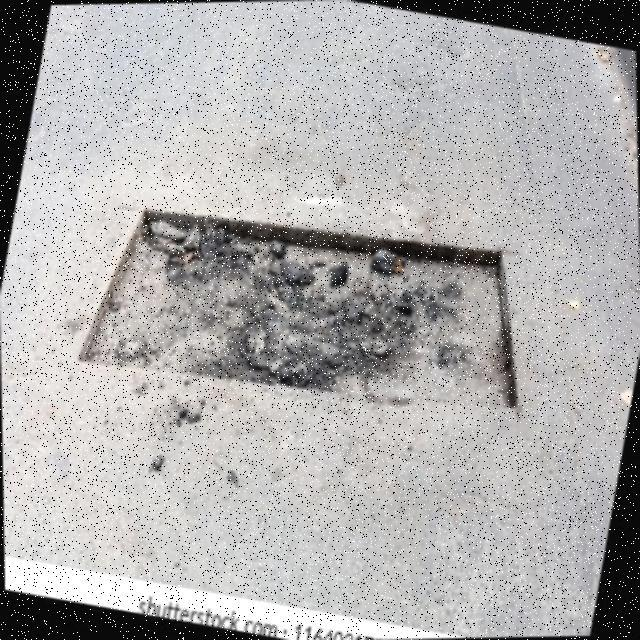Pothole: (79, 211, 516, 408)
